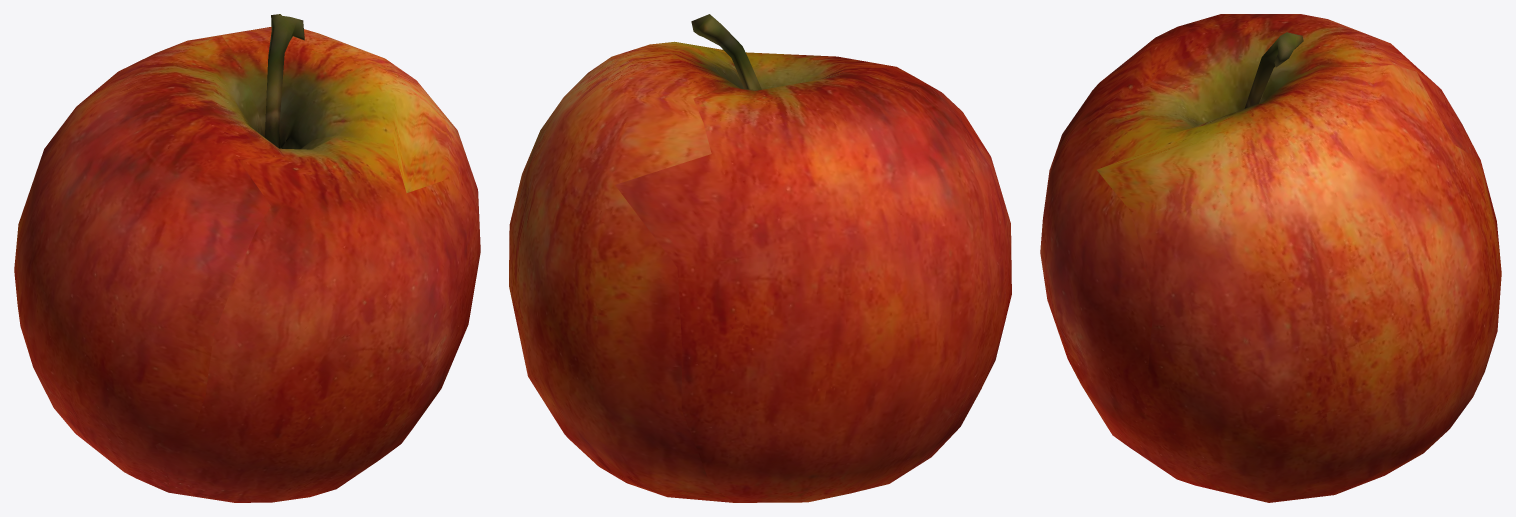
The model's file is apple-v1-transformed.glb.
3 renders of one model, left to right at view 1: azimuth 30°, elevation 25°; view 2: azimuth 150°, elevation 25°; view 3: azimuth 270°, elevation 25°, orthographic. The views are drawn at different scales.
Visible parts, largest first — view 1: apple_low_obj_Material #35_0; view 2: apple_low_obj_Material #35_0; view 3: apple_low_obj_Material #35_0.
Boxes of the visible parts, <box> form: apple_low_obj_Material #35_0: <box>14,14,480,502</box>; apple_low_obj_Material #35_0: <box>509,14,1011,502</box>; apple_low_obj_Material #35_0: <box>1040,14,1501,502</box>.
Bounding box in the file's own units: 82.2 × 82.04 × 76.48.
Materials: 1 (1 with a texture image).
